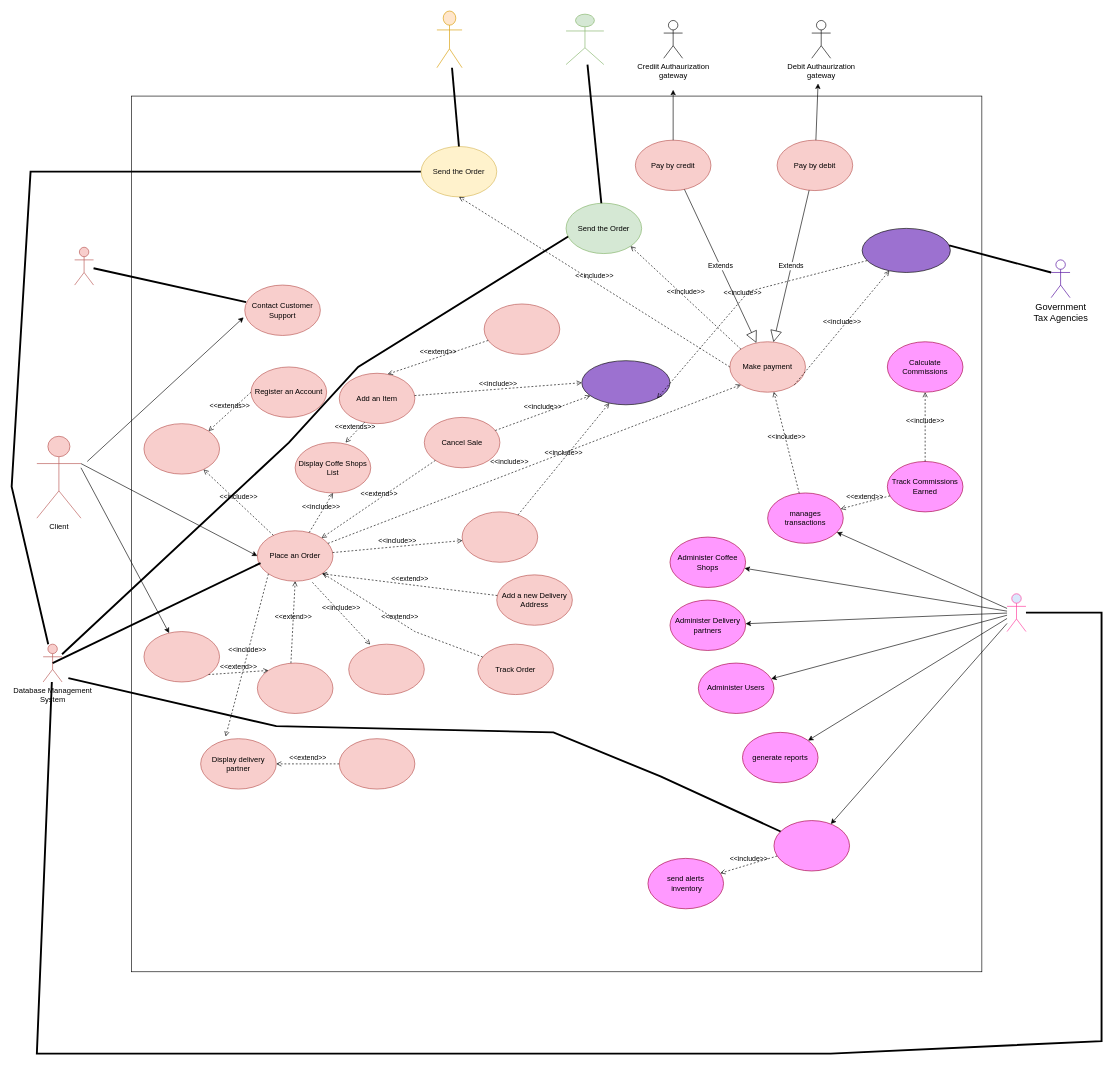
Some shapes in this 1114 by 1066 pixel diagram are drawn without their labels. The centre of each missing label's shape, as x and y in pixels:
"Admin" belongs at [1016,612].
"Calculate Total Price before Tax" belongs at [625,382].
"Calculate Total Price including Tax" belongs at [906,250].
"Choose delivery partner" belongs at [377,763].
"Coffe API" belongs at [449,39].
"Delivery API" belongs at [584,39].
"EMAIL SERVER" belongs at [84,266].
"Log In" belongs at [181,448].
"Manage(customize) item" belongs at [499,536].
"Print Receipt" belongs at [386,669].
"Rate and Review" belongs at [181,656].
"Remove Item" belongs at [522,328].
"update daily products/inventory" belongs at [811,845].
"View User Order History" belongs at [295,687].
